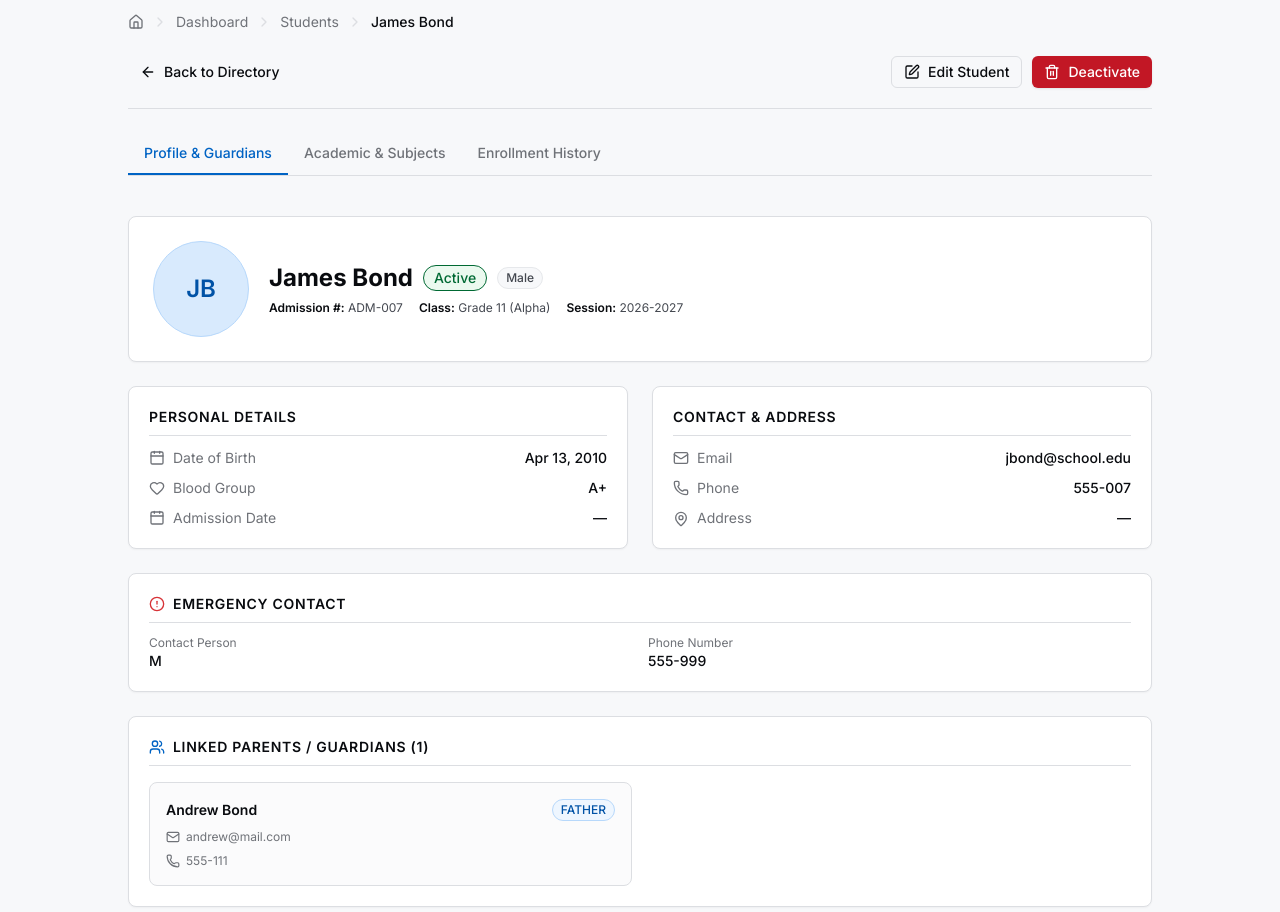
Test: StudentDetailsPage › should render student profile, details, tabs, and action buttons
Check: the heading "James Bond" is shown, box x1=269 y1=262 x2=413 y2=294
Check: the text "ADM-007" is shown, box x1=348 y1=300 x2=403 y2=315
Note: Switch to Academic tab
Click the tab "Academic & Subjects": (375, 154) x1=288 y1=133 x2=462 y2=175
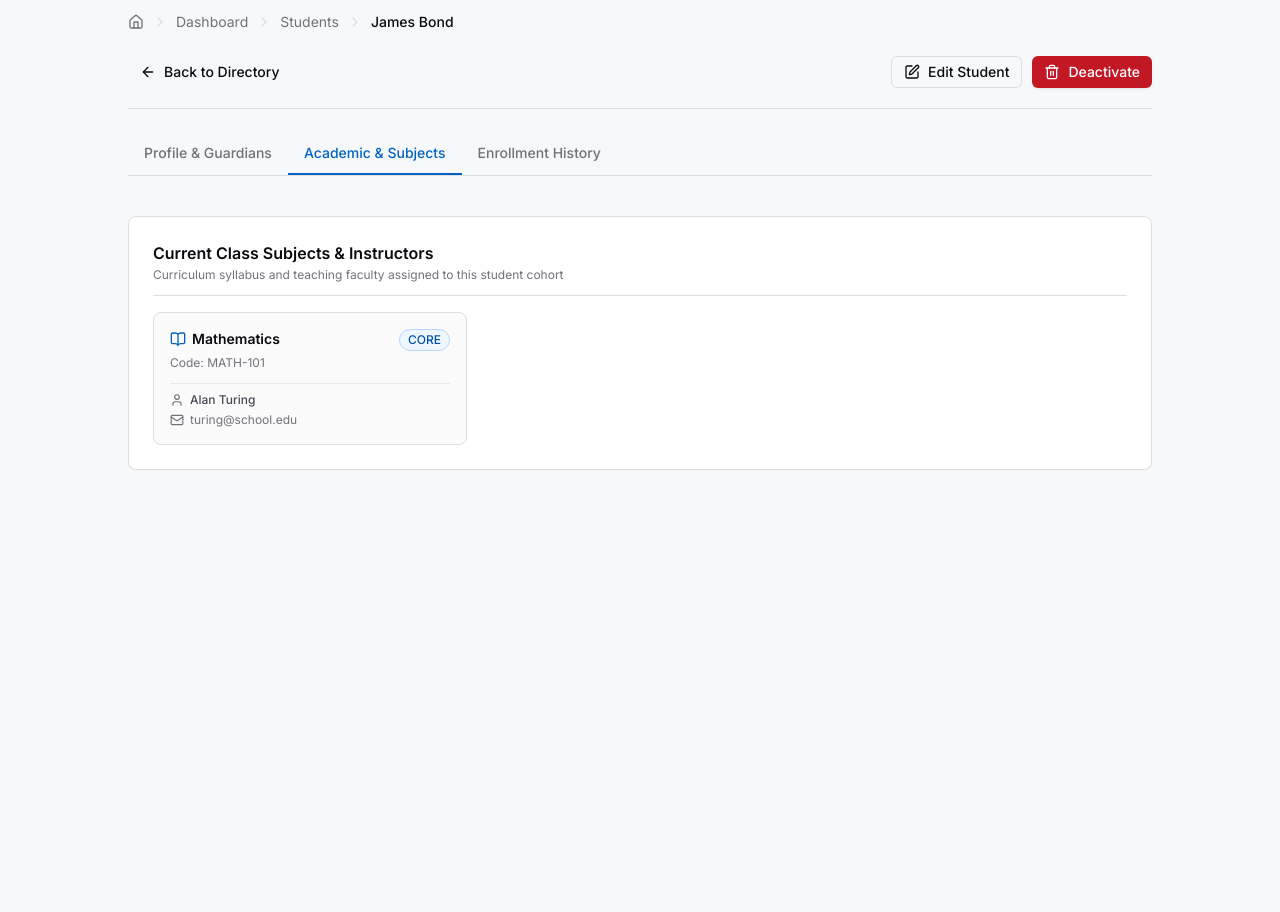
Check: the heading "Mathematics" is shown, box x1=170 y1=329 x2=280 y2=349
Check: the text "Alan Turing" is shown, box x1=170 y1=392 x2=255 y2=407
Note: Switch to Enrollment History tab
Click the tab "Enrollment History": (539, 154) x1=462 y1=133 x2=617 y2=175
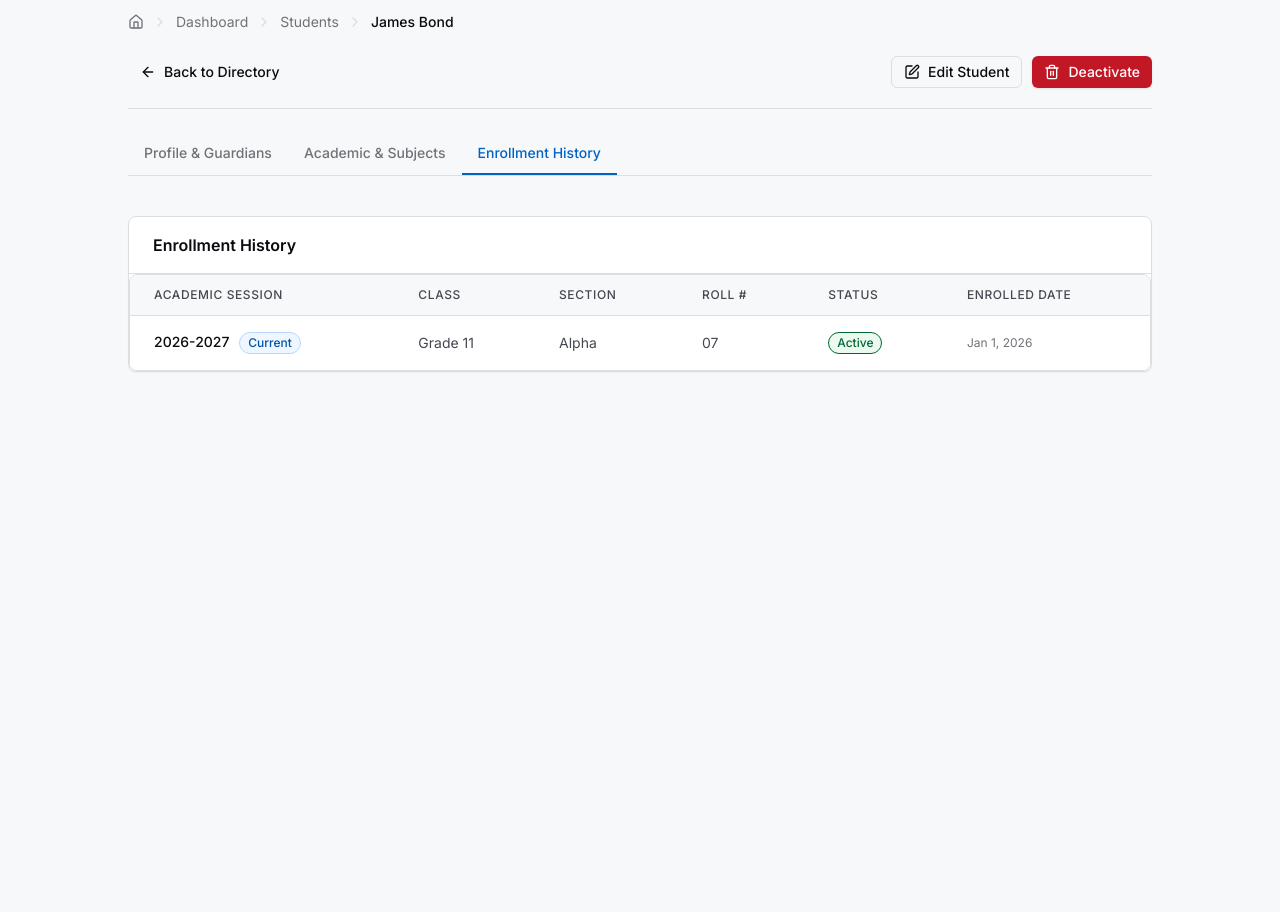
Check: the text "Current" is shown, box x1=239 y1=332 x2=301 y2=354
Check: the heading "Enrollment History" is shown, box x1=153 y1=235 x2=296 y2=255
